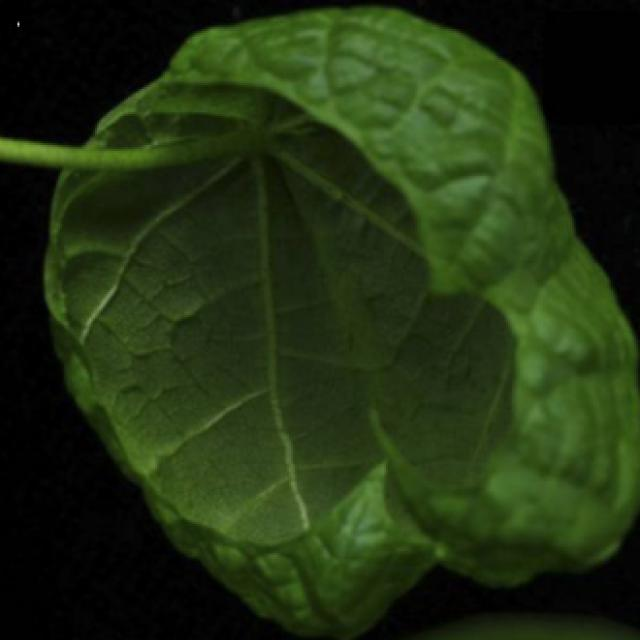Leaf Curl Virus: (136, 17, 595, 583)
